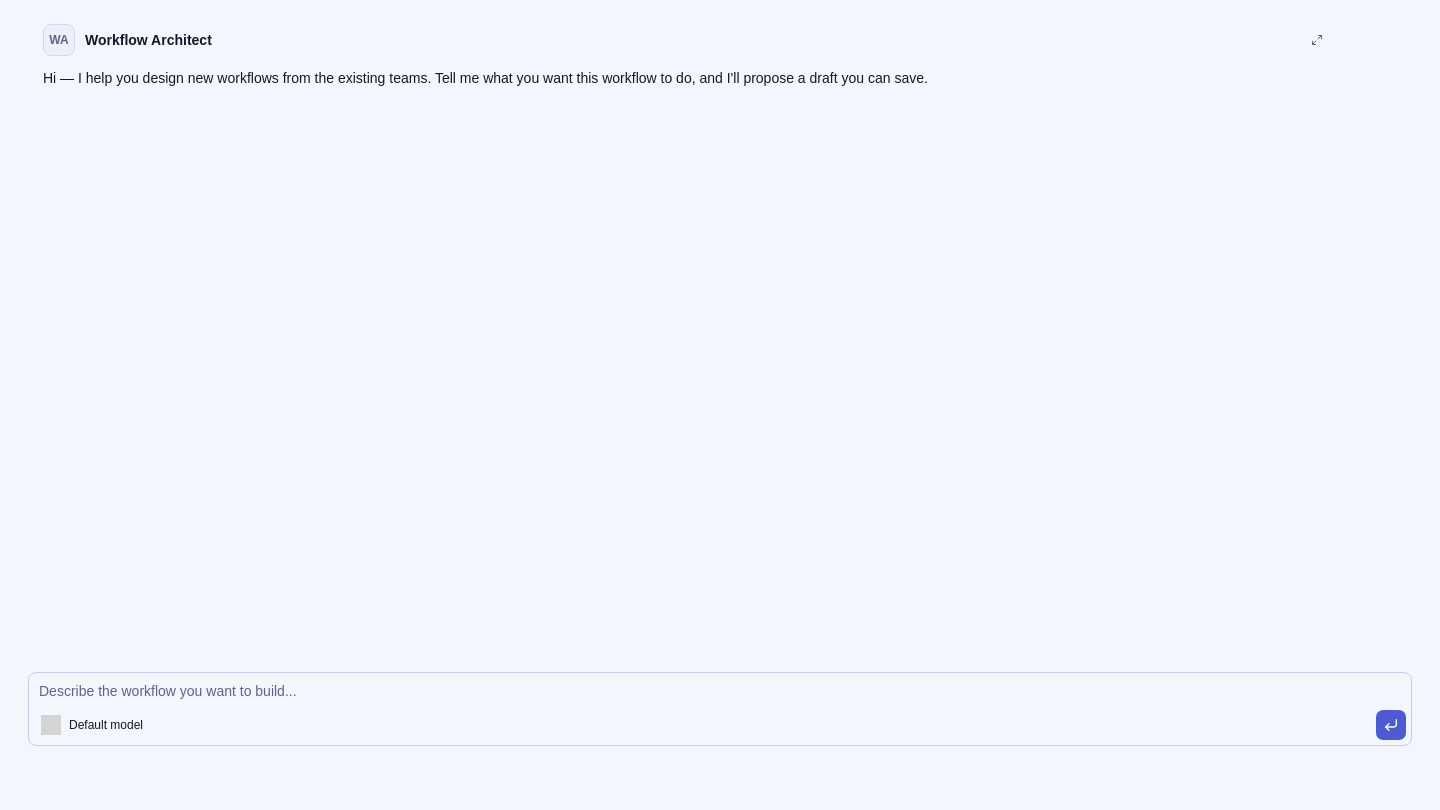
Test case: workflow architect panel streaming › stopping abandons the preview instead of stranding it on screen
Step 1. Type "Build me a review workflow." into the text box with placeholder "Describe the workflow you want to build..." → [720, 709], box top-left (29, 673), bottom-right (1411, 745)
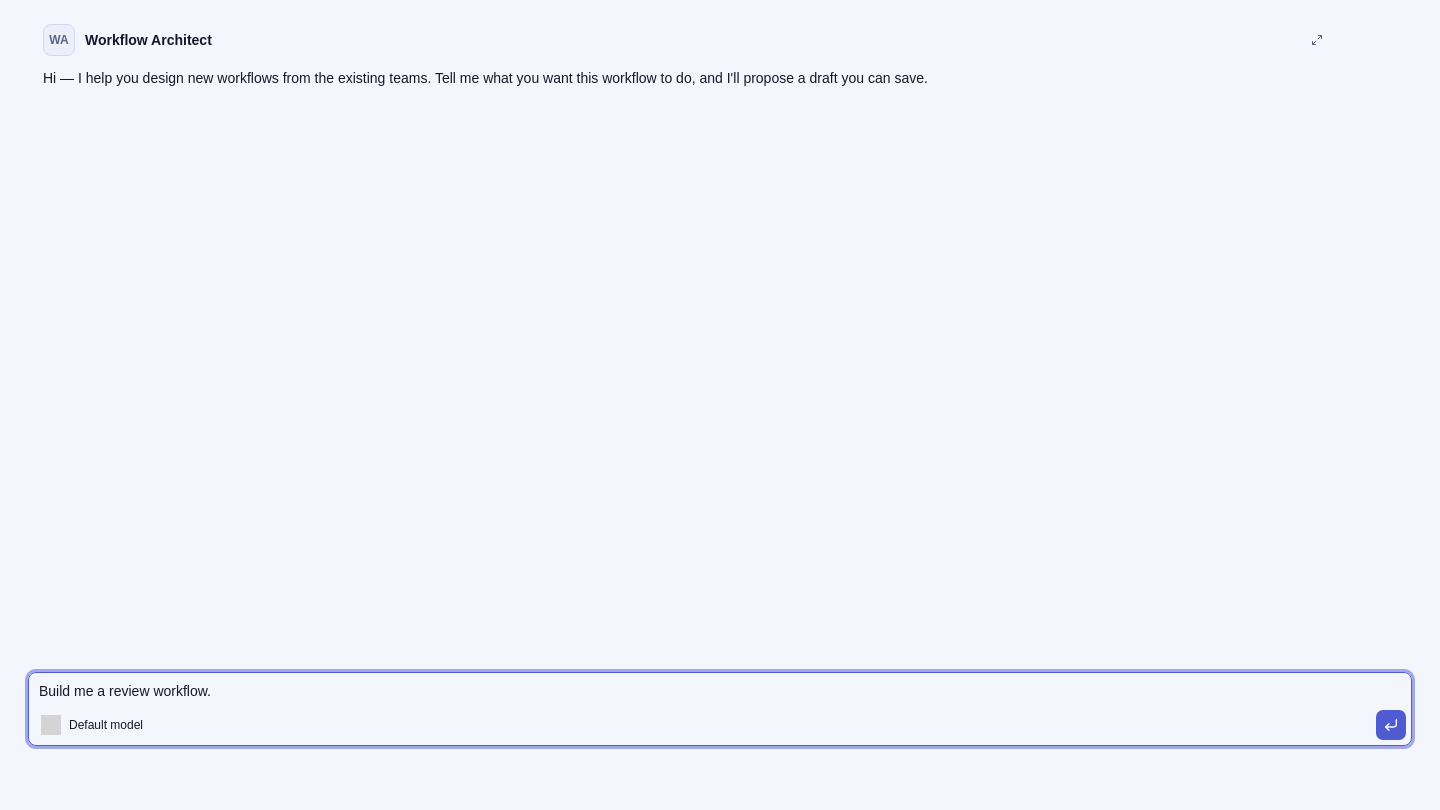
Step 2. Click the button named "Submit" → [1391, 725], box top-left (1375, 709), bottom-right (1407, 741)
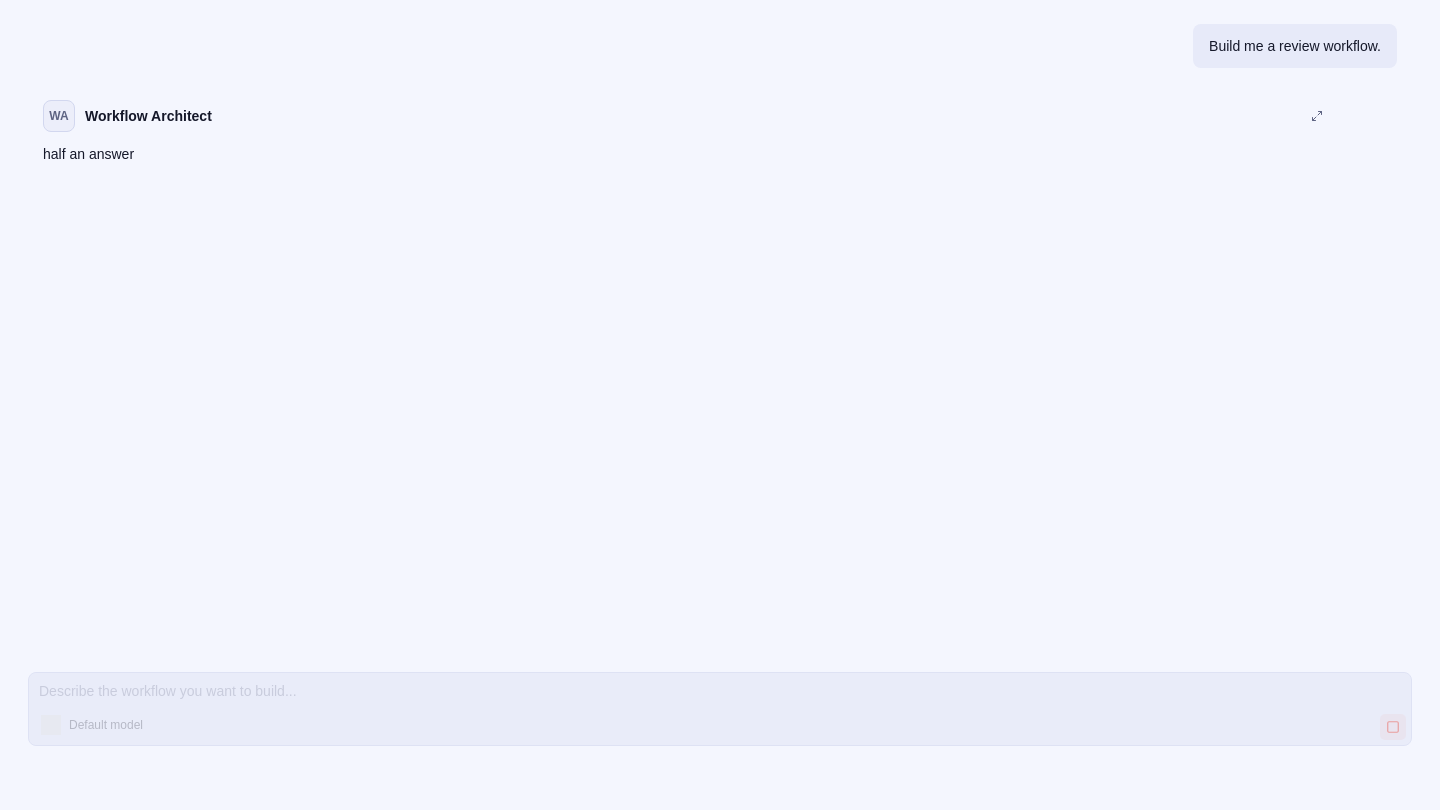
Expected: the element with test id "streaming-reply" is shown, top-left (43, 100), bottom-right (1329, 164)
Step 3. Click the button named "stop" → [1393, 727], box top-left (1379, 713), bottom-right (1407, 741)
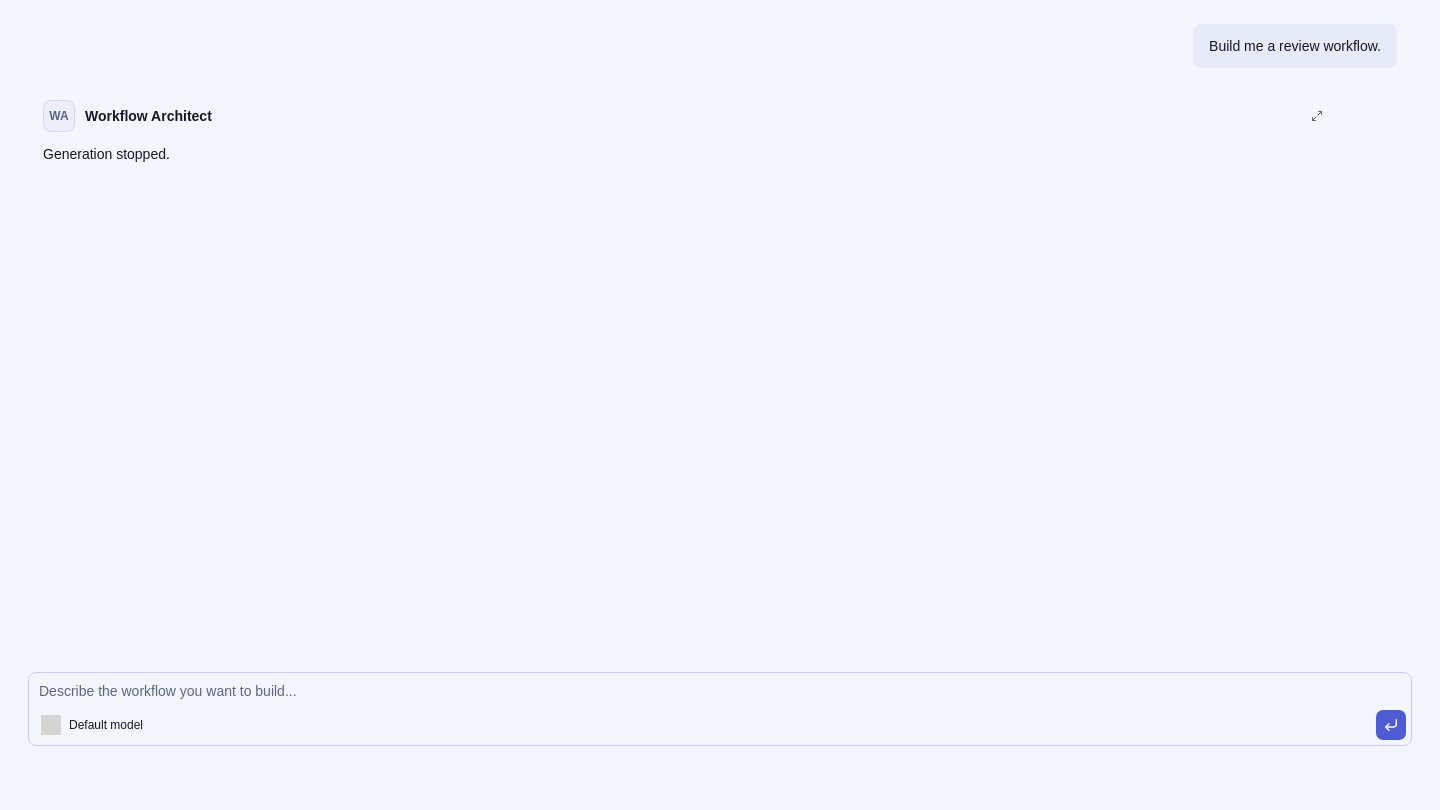
Expected: the element with test id "streaming-reply" is gone
